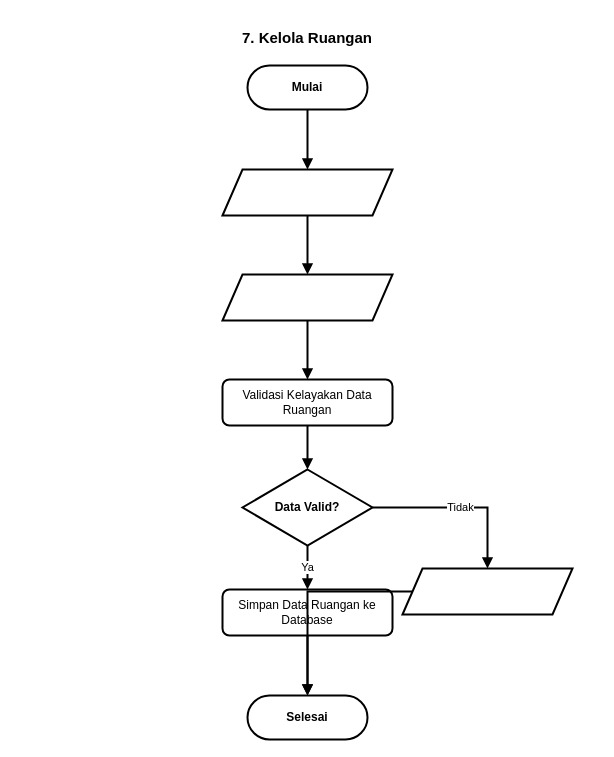
The diagram is 614 pixels wide and 757 high, and some of its shapes have lost their labels. The shapes that lost their labels are listed below. From the top down, each one's box as (x1, y1, x2, y2) in pixels, then its label:
(221, 168, 393, 216): Pilih Data & Klik Tambah/Ubah Ruangan
(221, 273, 393, 321): Isi Formulir Data Ruangan
(401, 567, 573, 615): Tampilkan Notifikasi Error Form
